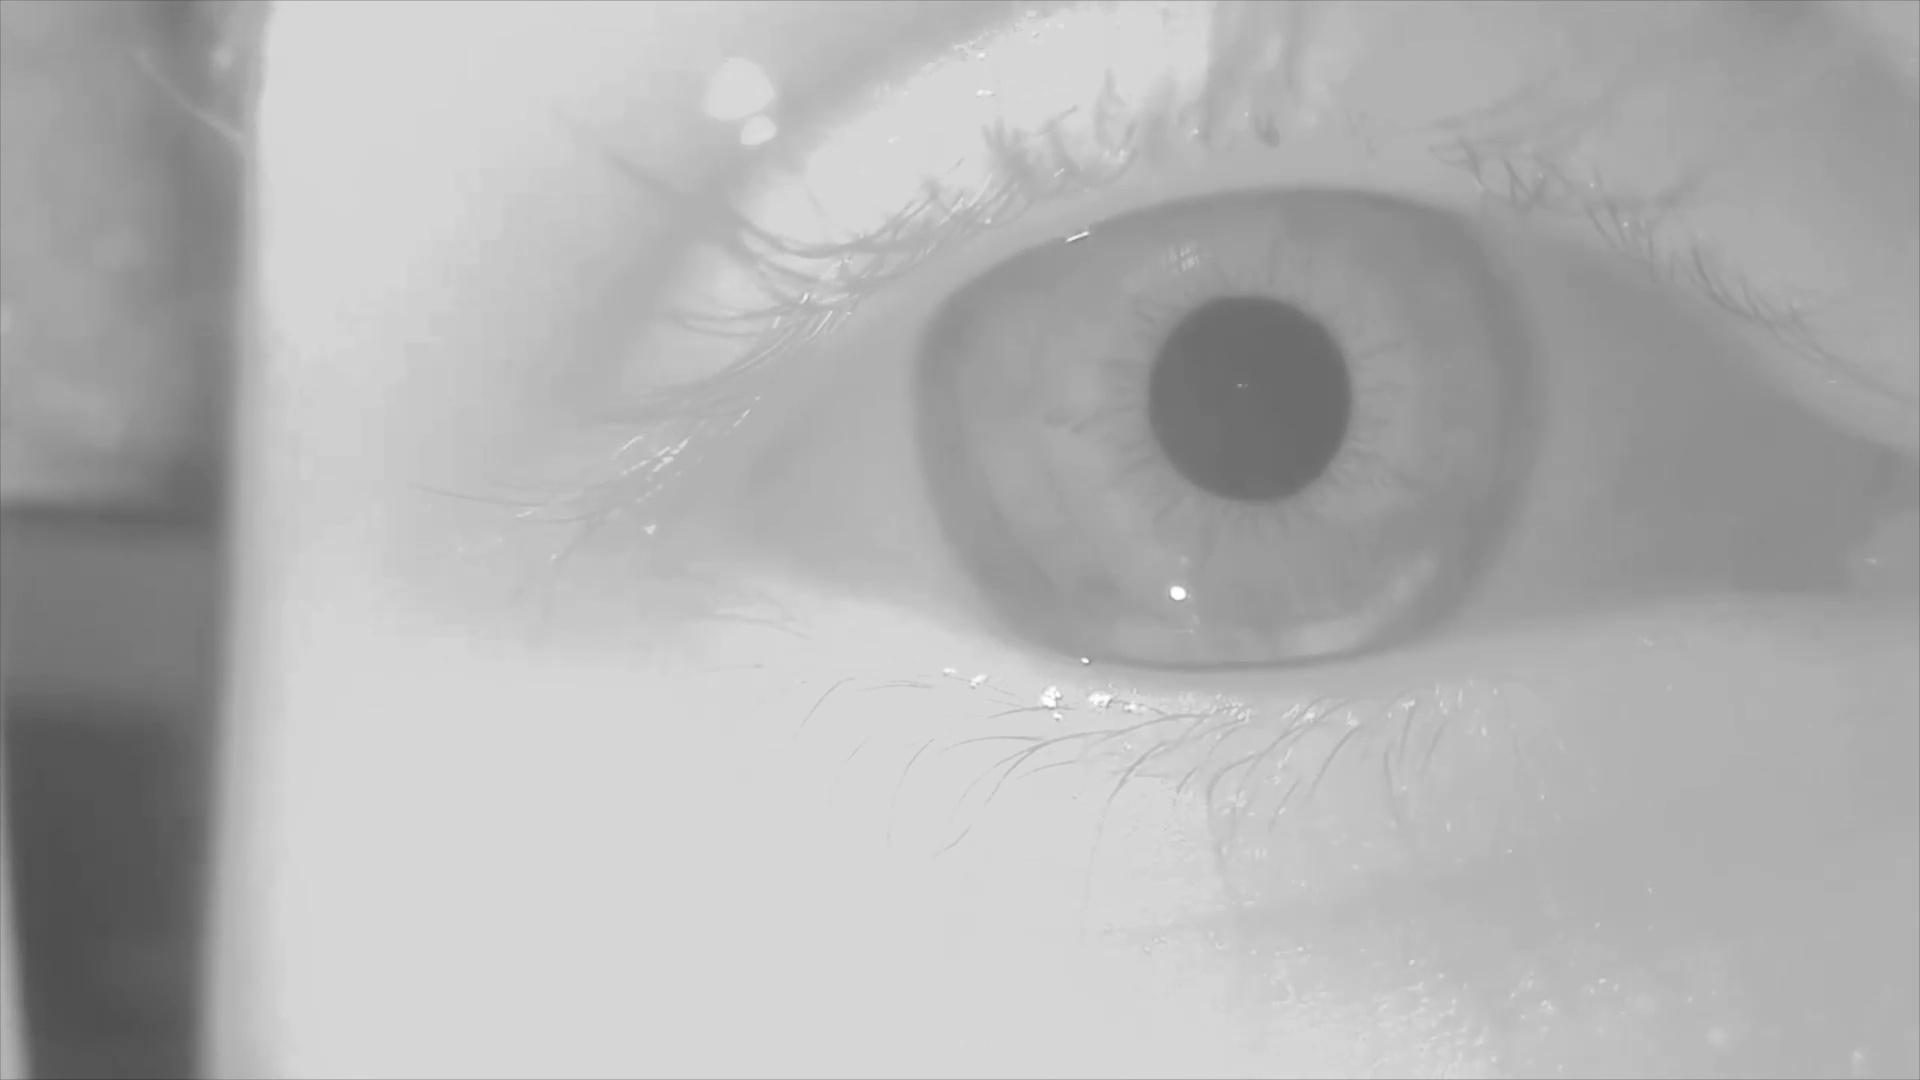pupil: (1146, 298, 1353, 503)
